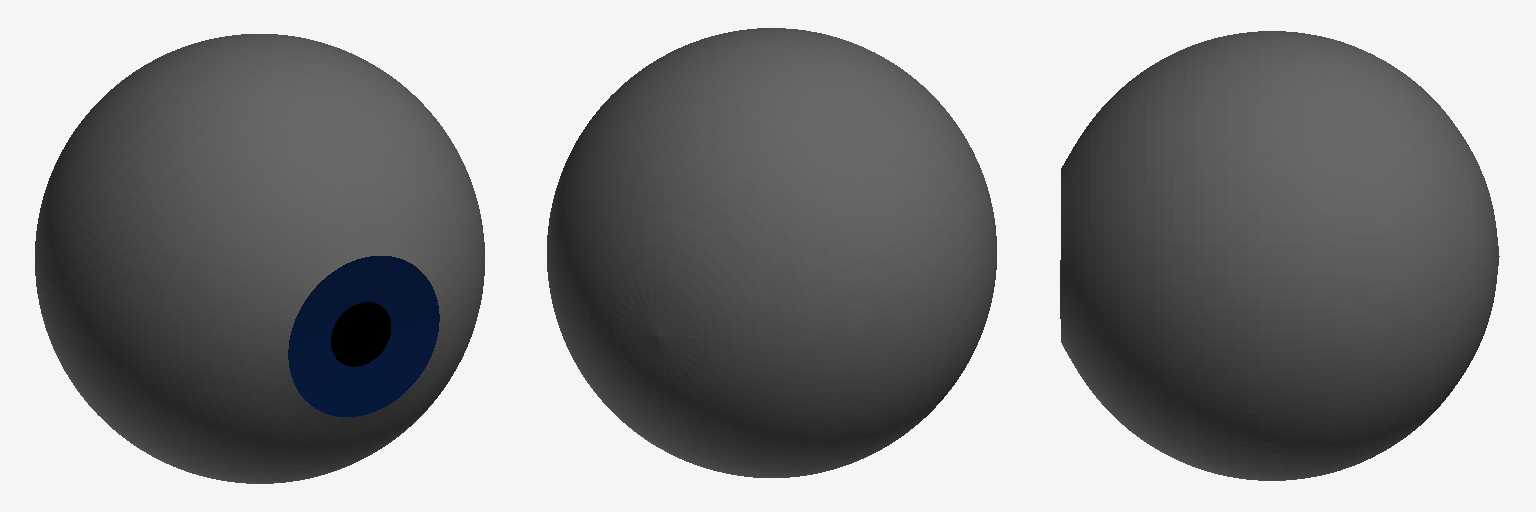
File: eyeball.obj
The picture shows the model from 3 angles: view 1: azimuth 30°, elevation 25°; view 2: azimuth 150°, elevation 25°; view 3: azimuth 270°, elevation 25°; orthographic projection.
Parts seen in each view (by area): view 1: eyeball_1_eye_1, eyeball_1.002_eye_1.002, eyeball_1.001_eye_1.001; view 2: eyeball_1_eye_1; view 3: eyeball_1_eye_1.
Part boxes in pixels (left/top/right/bottom): eyeball_1_eye_1: left=35, top=34, right=484, bottom=483; eyeball_1.002_eye_1.002: left=288, top=256, right=439, bottom=416; eyeball_1.001_eye_1.001: left=331, top=302, right=390, bottom=366; eyeball_1_eye_1: left=547, top=28, right=996, bottom=477; eyeball_1_eye_1: left=1060, top=31, right=1499, bottom=480.
Bounding box in the file's own units: 3.86 × 3.86 × 3.77.